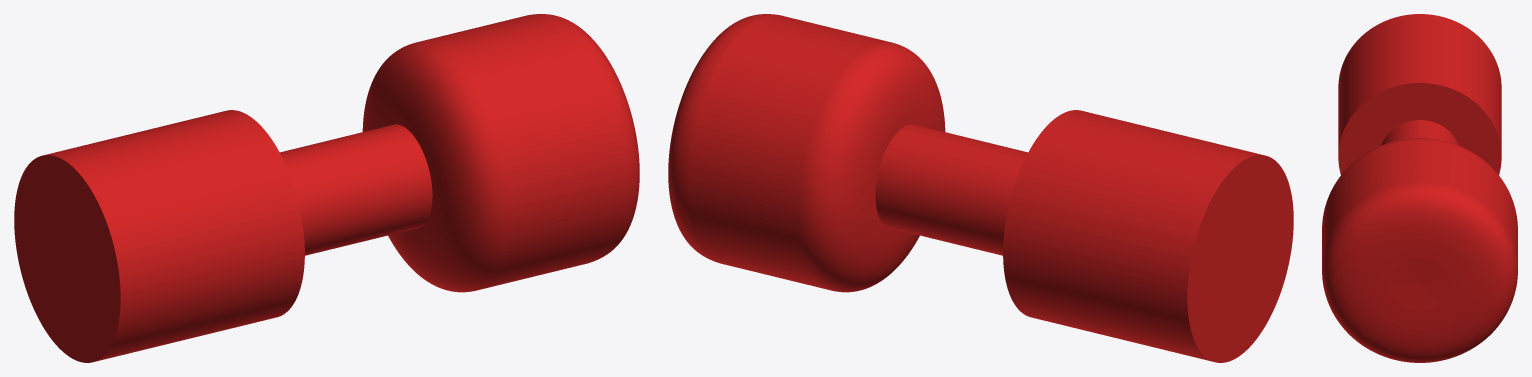
Rendered from 0_colored.obj.
3 views of the same model, side by side, from view 1: azimuth 30°, elevation 25°; view 2: azimuth 150°, elevation 25°; view 3: azimuth 270°, elevation 25° (orthographic). The views are drawn at different scales.
Size of the model in its own units: 0.0285 by 0.012 by 0.012.
